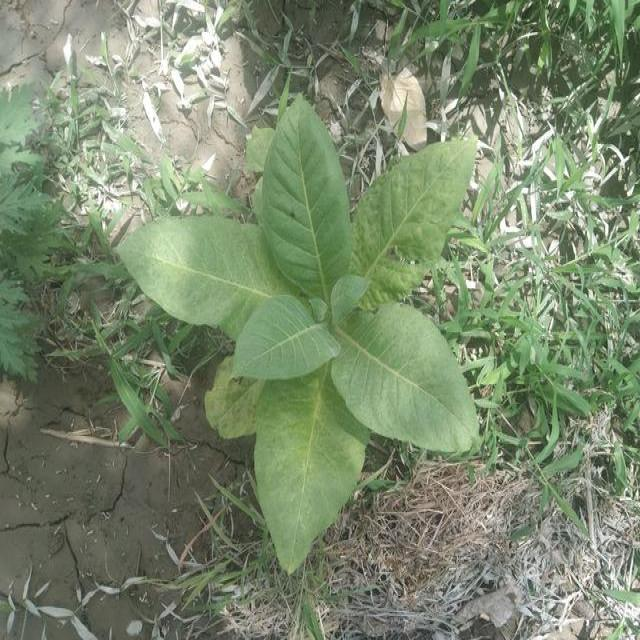crop: (130, 103, 484, 558)
